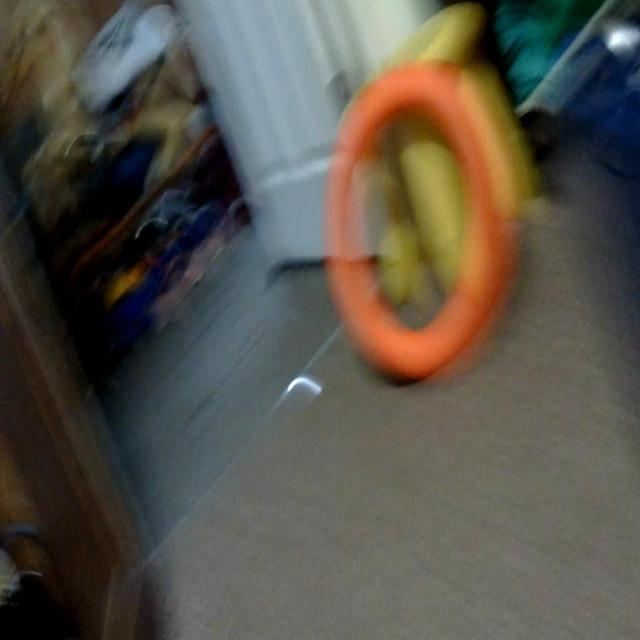note: (321, 66, 505, 382)
